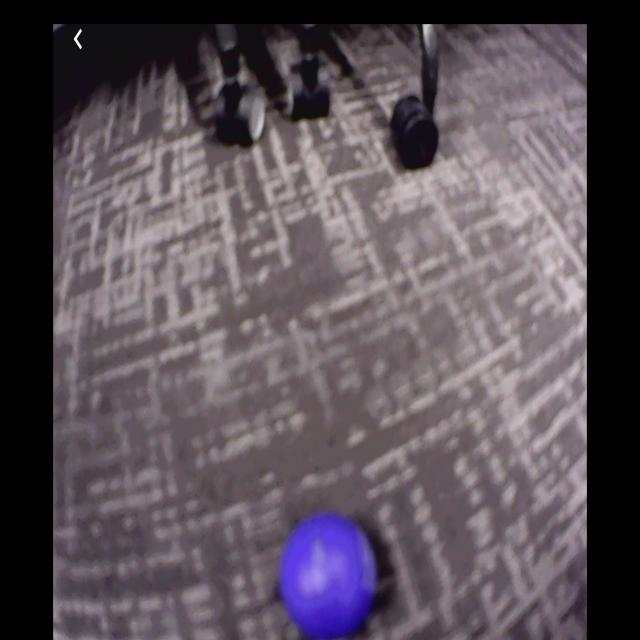ball: (282, 516, 378, 640)
